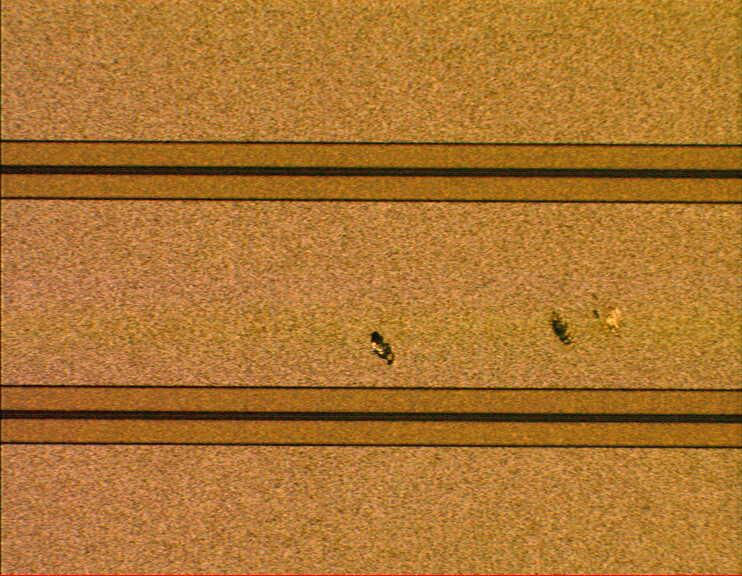SCRATCH: (348, 298, 646, 372)
